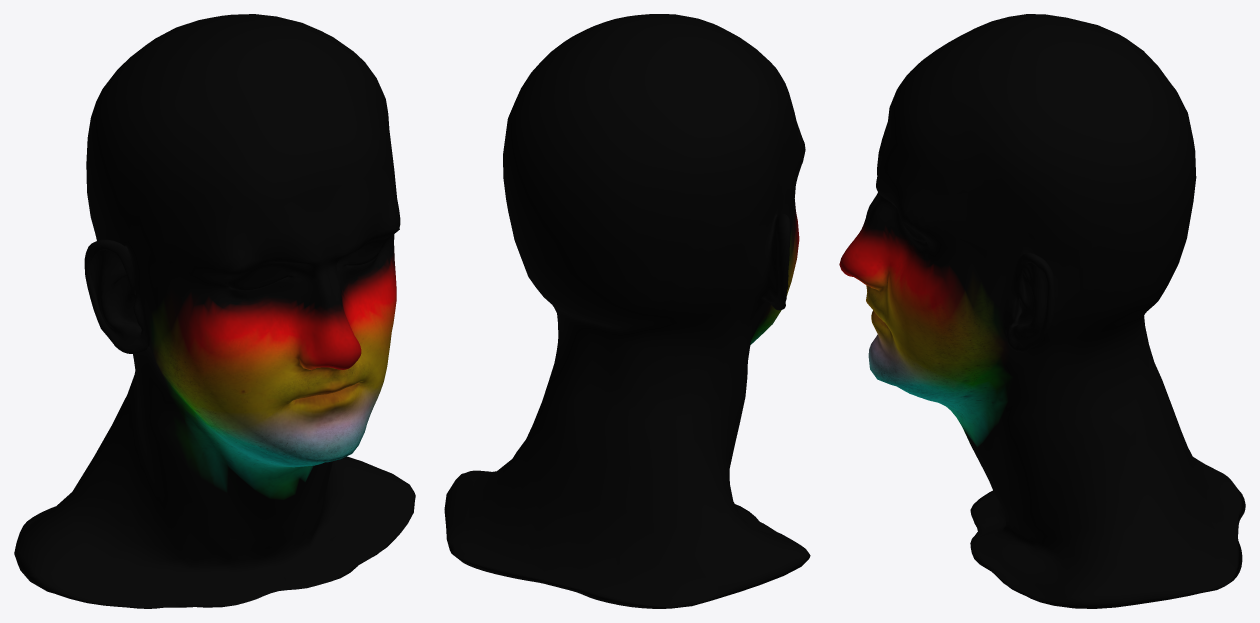
File: ozea-face-textured.glb
3 renders of one model, left to right at view 1: azimuth 30°, elevation 25°; view 2: azimuth 150°, elevation 25°; view 3: azimuth 270°, elevation 25°, orthographic. The views are drawn at different scales.
Parts seen in each view (by area): view 1: face; view 2: face; view 3: face.
Boxes of the visible parts, bbox=[...] form: face: bbox=[14, 14, 415, 608]; face: bbox=[444, 14, 810, 608]; face: bbox=[839, 14, 1245, 608].
Size of the model in its own units: 21.37 by 29.14 by 21.24.
1 material, 1 textured.
